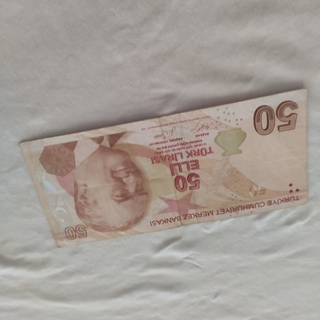50TLFront: (19, 88, 310, 248)
